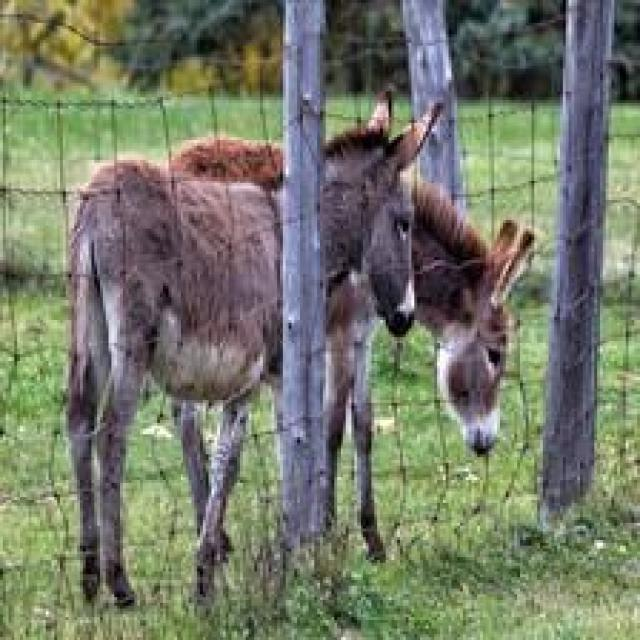Donkey: (60, 83, 446, 608), (166, 163, 534, 566)
